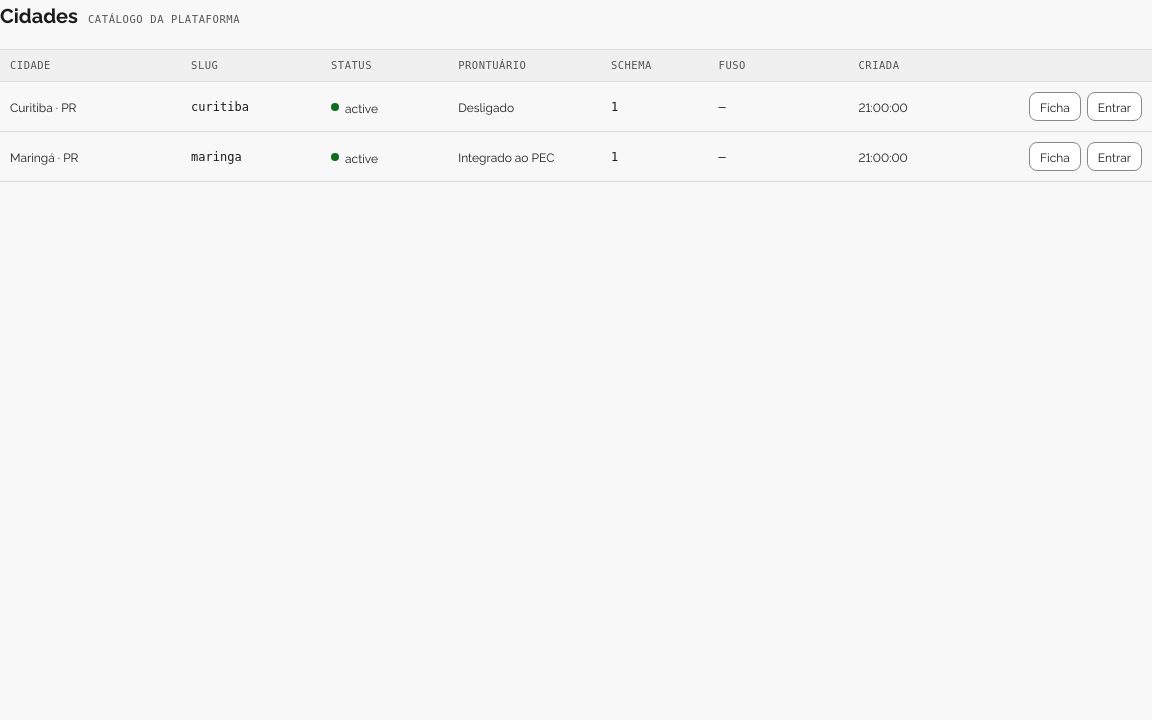
City record (read-only switches) › an api without features shows an explained empty state
Click the button with aria-label "Ficha de Curitiba": coordinates (1055, 107) [1029,92,1081,121]
(page scrolled)
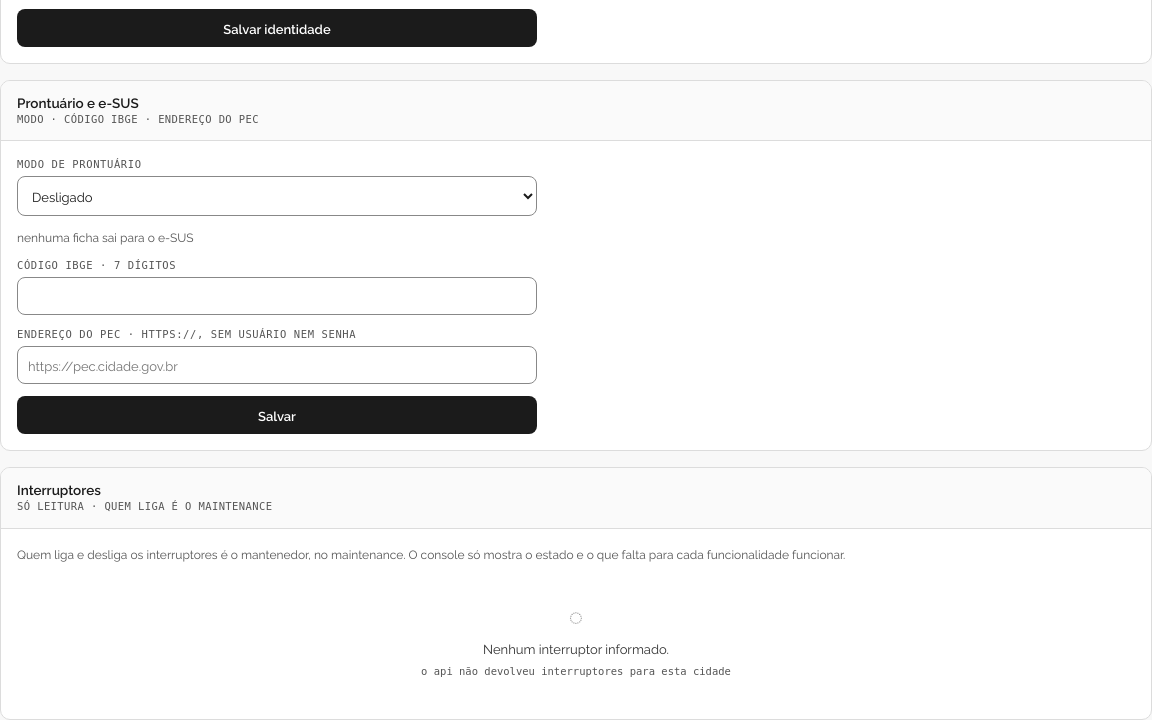
Expected: the text "Nenhum interruptor informado." is shown, [483,639,669,658]
